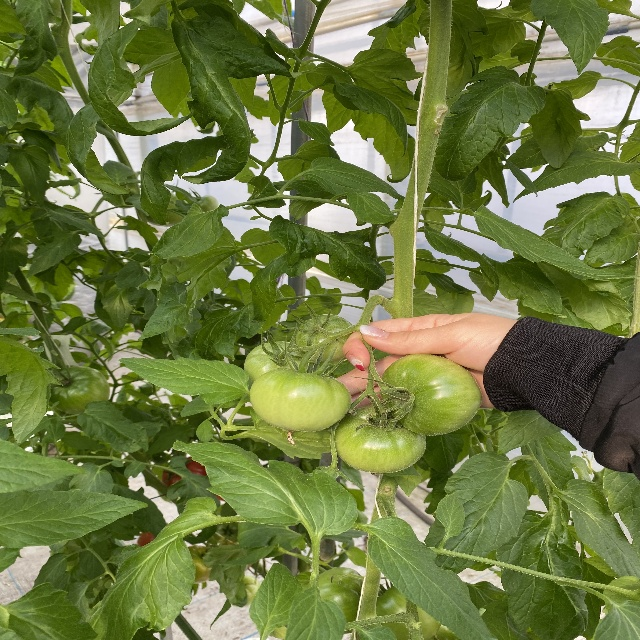b_green: (380, 353, 483, 437), (249, 367, 351, 433), (333, 404, 427, 474), (375, 585, 440, 640), (243, 340, 313, 391), (46, 366, 110, 414), (320, 566, 364, 634), (294, 314, 356, 362)
